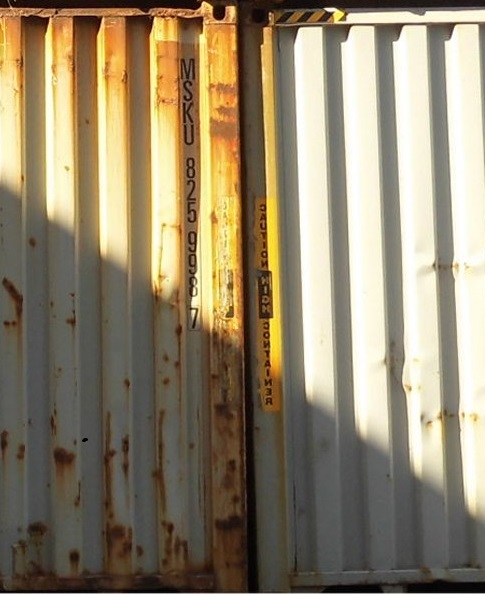container_no_door: (247, 13, 485, 594), (1, 6, 237, 587)
